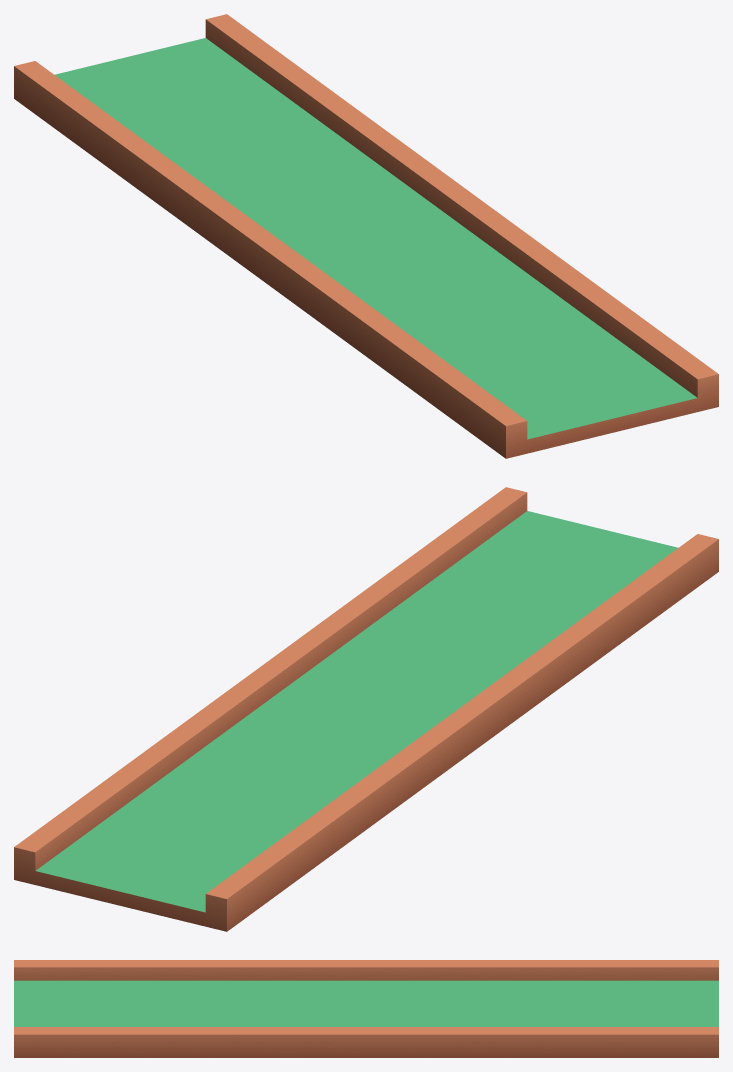
The model's file is spline-default-straight.glb.
The picture shows the model from 3 angles, top to bottom: view 1: azimuth 30°, elevation 25°; view 2: azimuth 150°, elevation 25°; view 3: azimuth 270°, elevation 25°; orthographic projection. The views are drawn at different scales.
Visible parts, largest first — view 1: spline-default-straight; view 2: spline-default-straight; view 3: spline-default-straight.
Boxes of the visible parts, bbox=[...] form: spline-default-straight: bbox=[14, 14, 718, 458]; spline-default-straight: bbox=[14, 487, 718, 931]; spline-default-straight: bbox=[14, 960, 718, 1057].
Bounding box in the file's own units: 0.9999 × 0.1467 × 4.
Materials: 1 (1 with a texture image).
